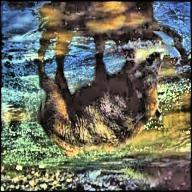boar: (24, 41, 165, 165)
